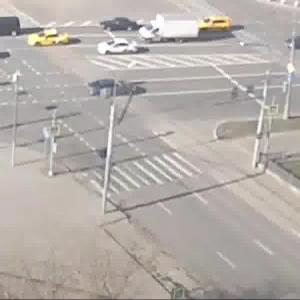car: (91, 76, 140, 99), (26, 29, 76, 50), (97, 17, 138, 37), (201, 16, 236, 35), (107, 43, 137, 57), (139, 27, 160, 42)
